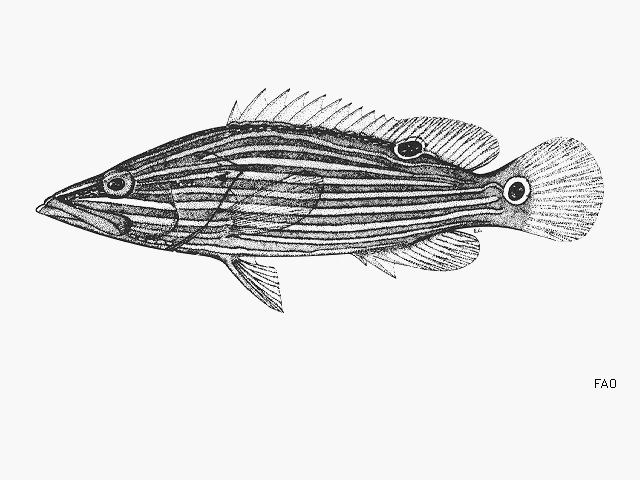fish: (32, 88, 605, 311)
